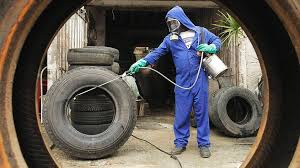tire: (42, 68, 137, 159), (213, 87, 261, 136), (65, 49, 114, 64), (70, 96, 112, 110), (69, 111, 113, 124)
